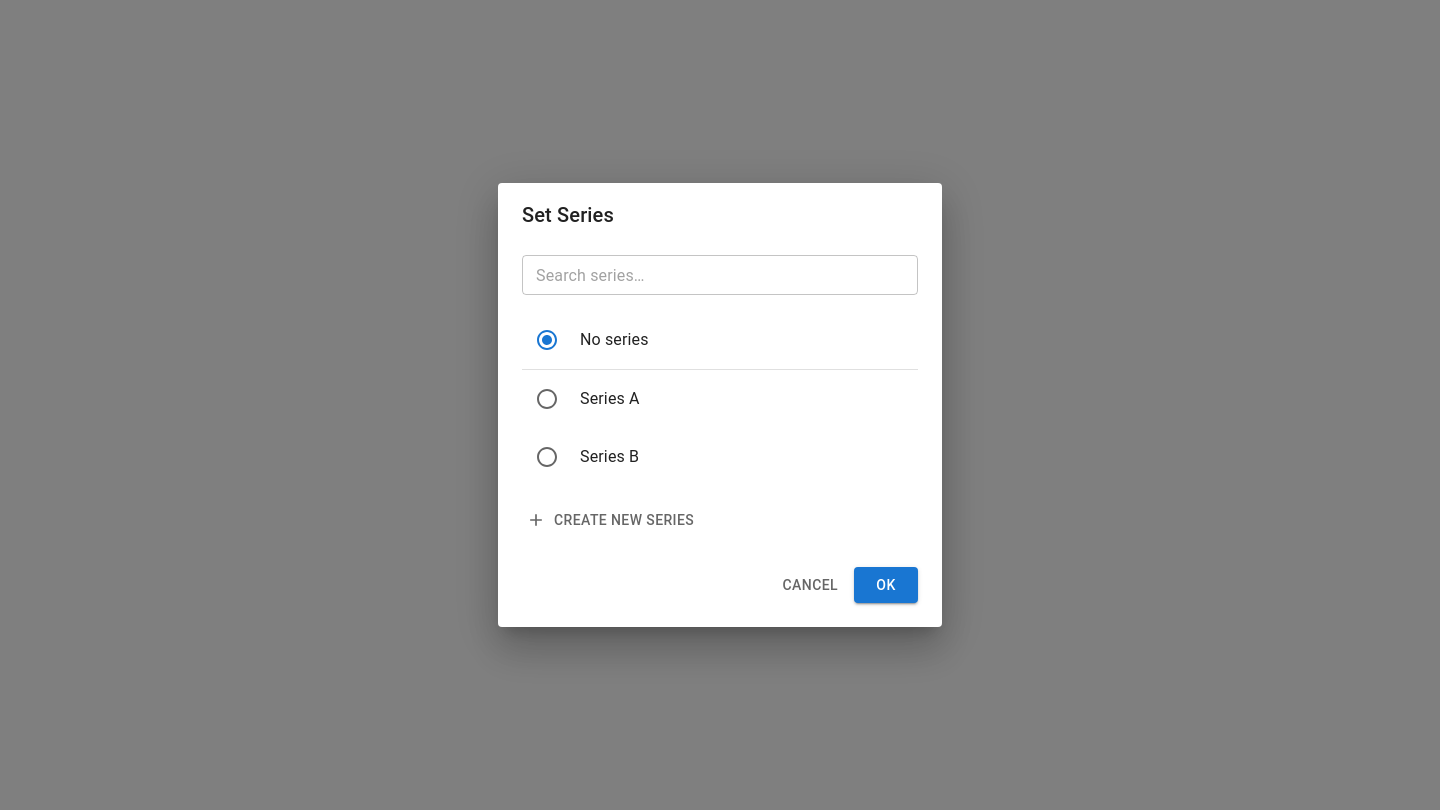
Test: SetSeriesDialog › should filter series by search text
Type "Series A" into the field with placeholder "Search series…" at (720, 275), box left=522, top=255, right=918, bottom=295
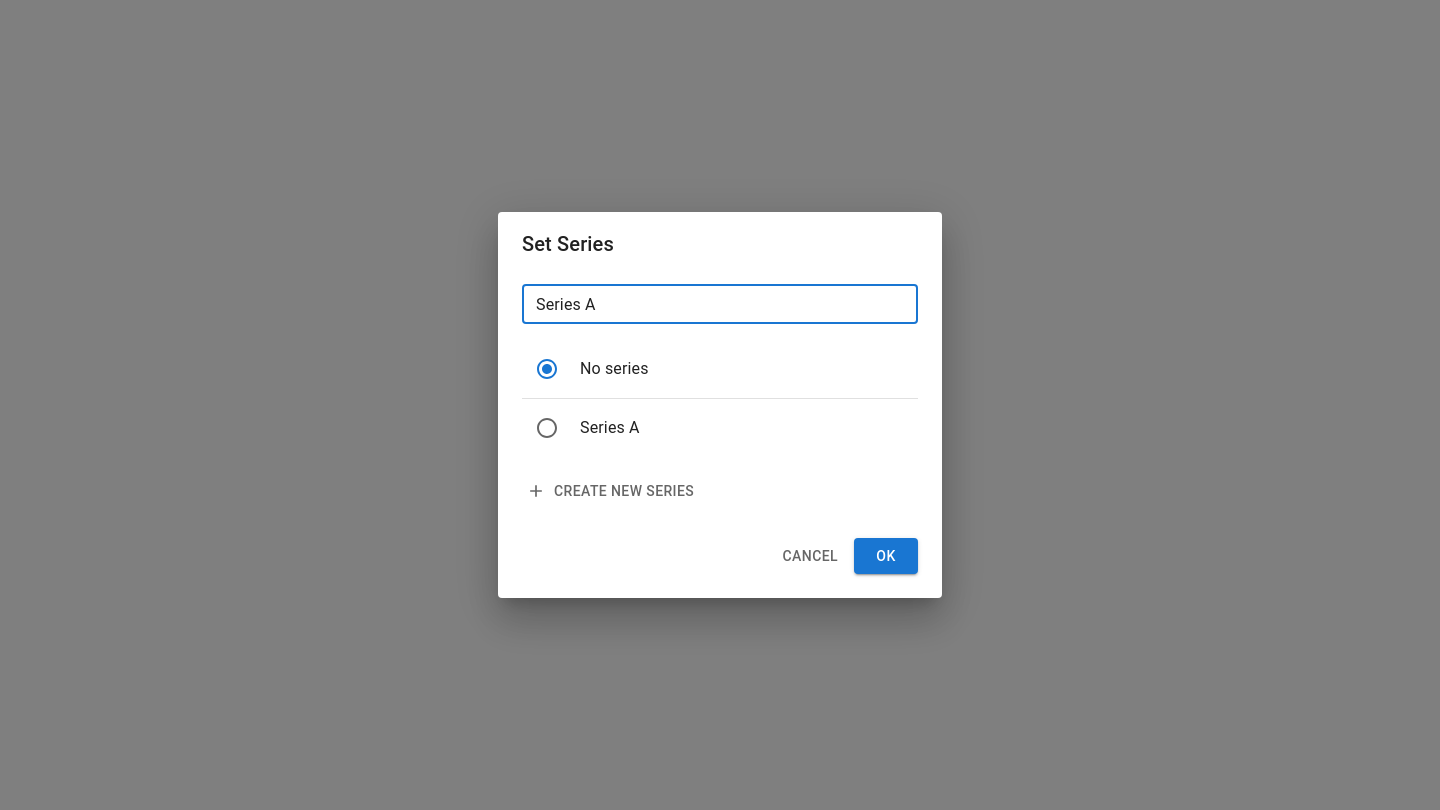
expect the text "Series A" is shown: met, box left=580, top=418, right=640, bottom=437
expect the text "Series B" is gone: met
